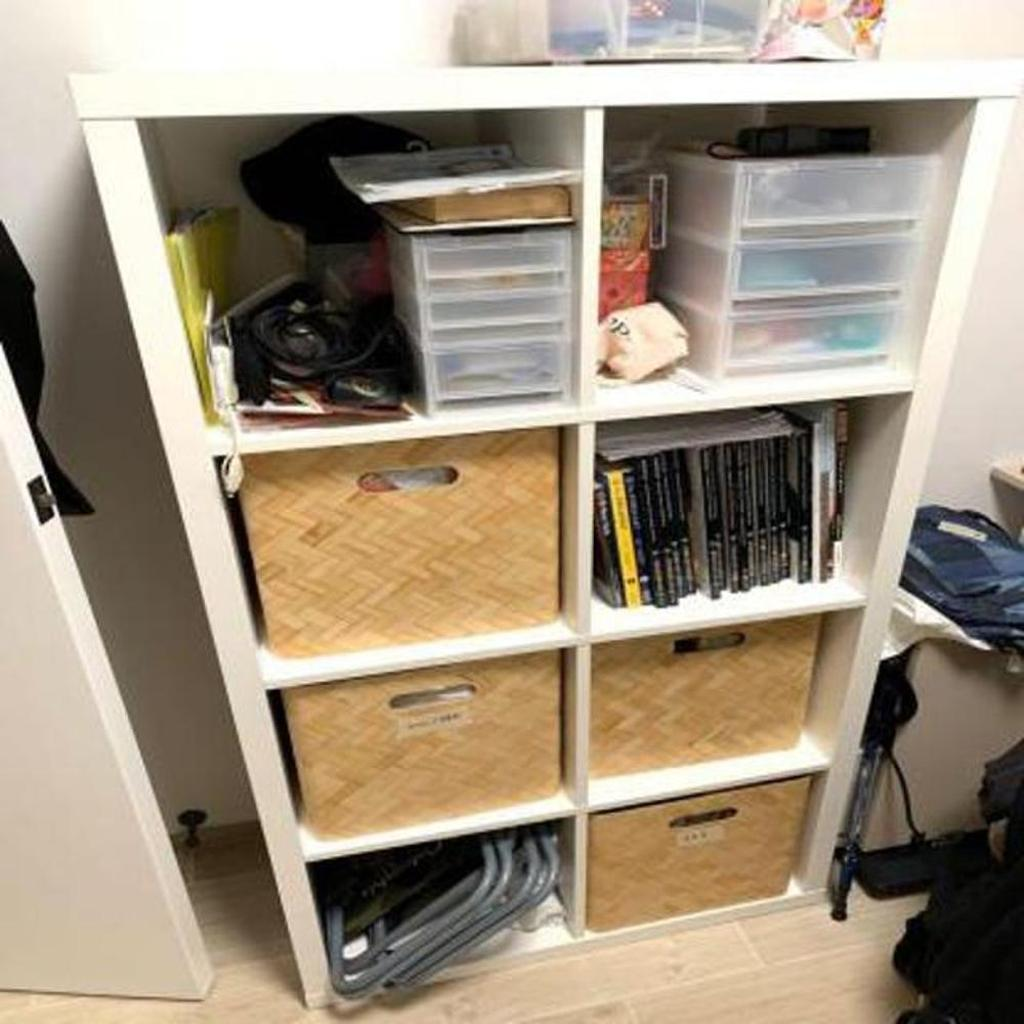lamp: (60, 56, 1023, 1012)
